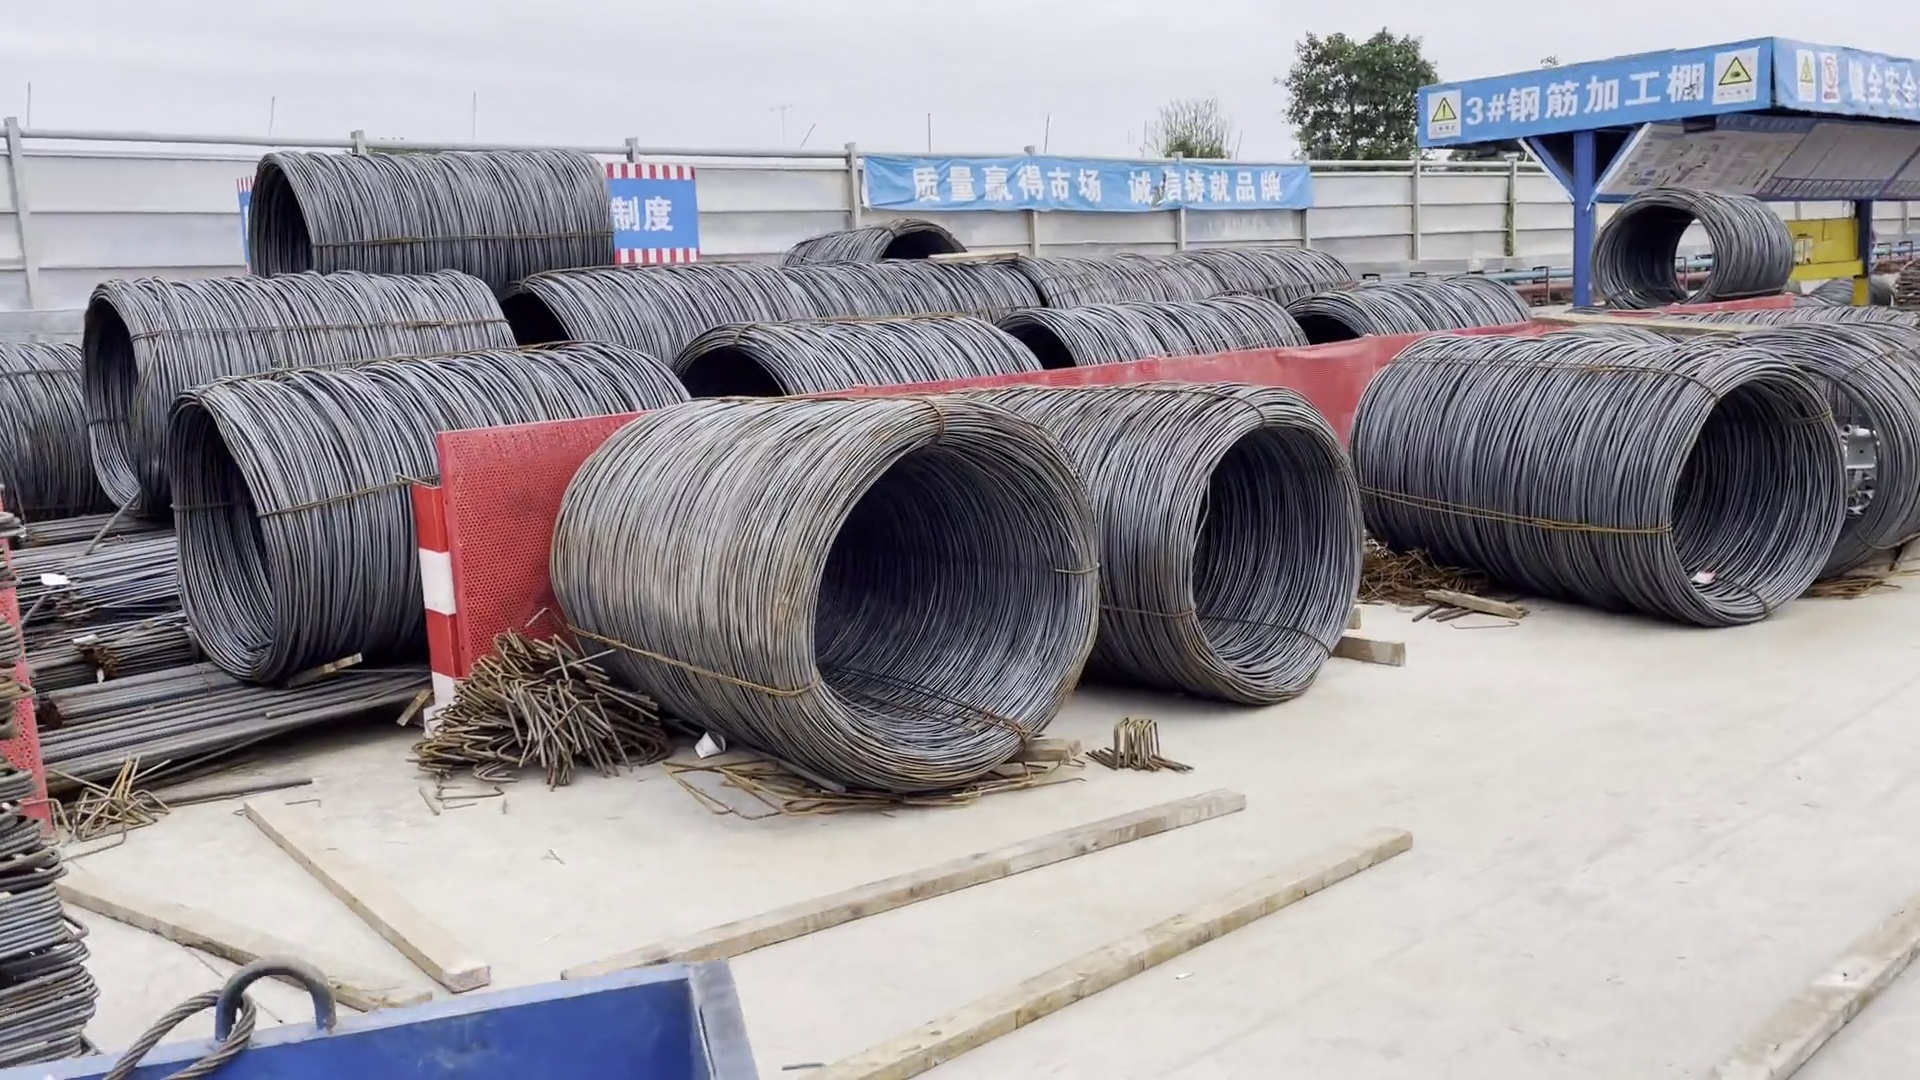hopper: (1, 949, 758, 1079)
slogan: (885, 148, 1287, 212)
